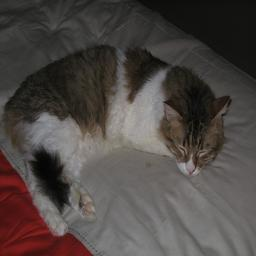catnose: (186, 162, 196, 174)
